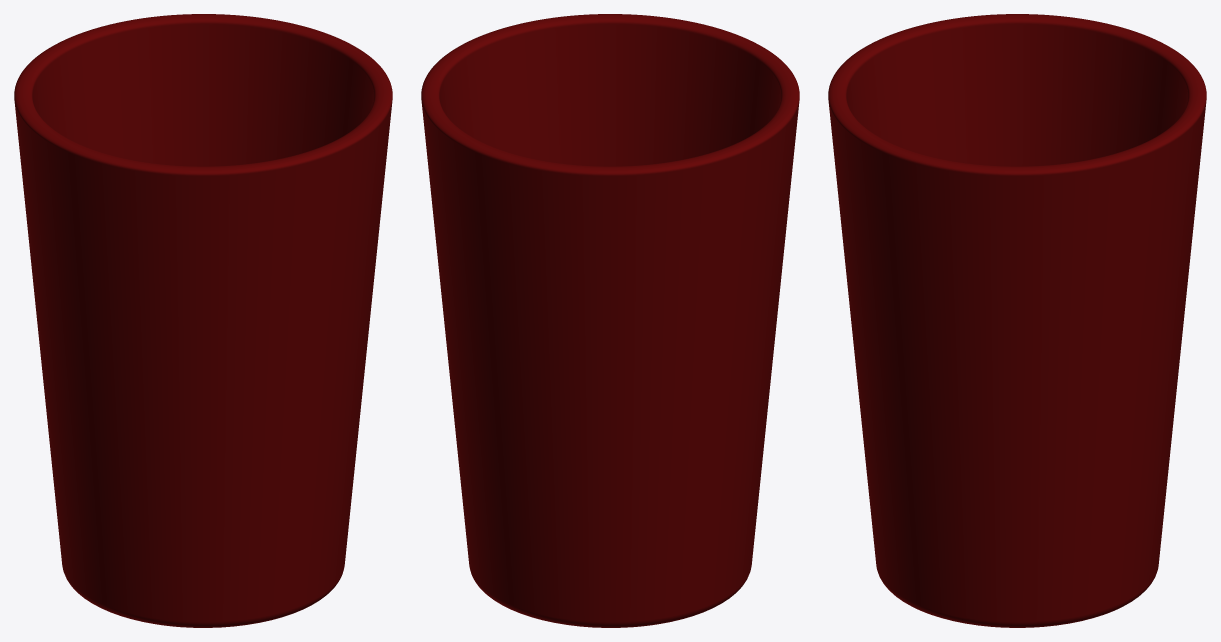
3 renders of one model, left to right at view 1: azimuth 30°, elevation 25°; view 2: azimuth 150°, elevation 25°; view 3: azimuth 270°, elevation 25°, orthographic.
Size of the model in its own units: 0.062 by 0.0868 by 0.062.
